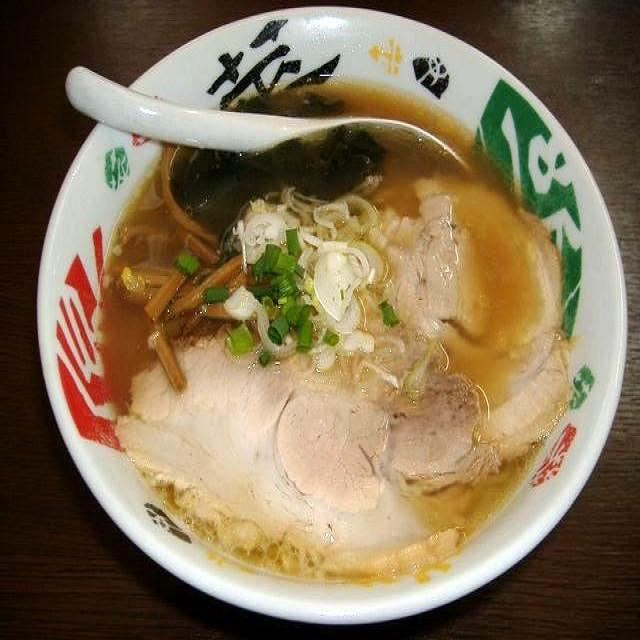面条主食: (32, 0, 628, 631)
